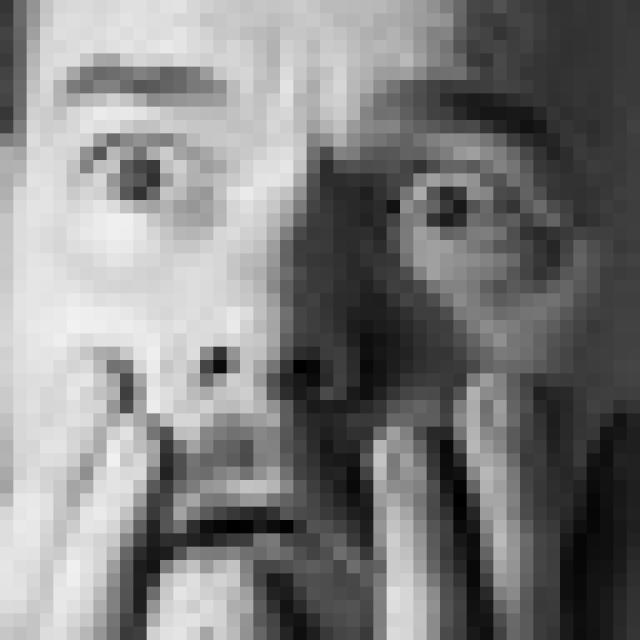fear: (52, 57, 589, 610)
